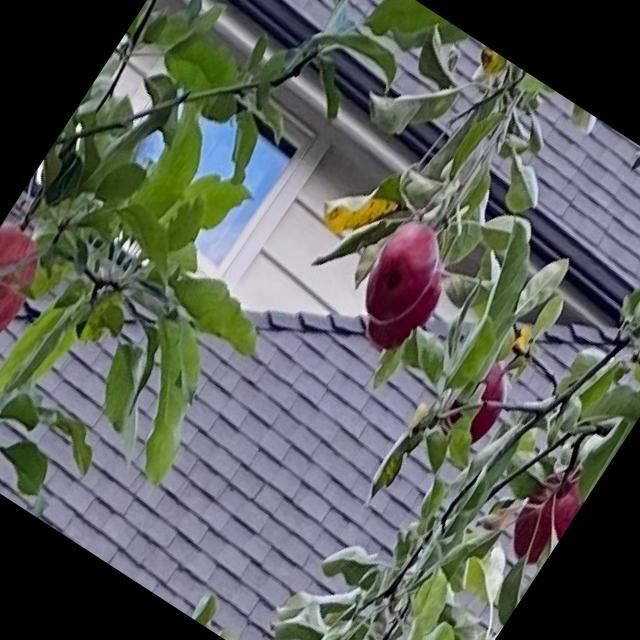100-_ripeness: (348, 212, 452, 331), (498, 463, 591, 570), (357, 258, 448, 362), (431, 350, 522, 454), (0, 219, 54, 362)
